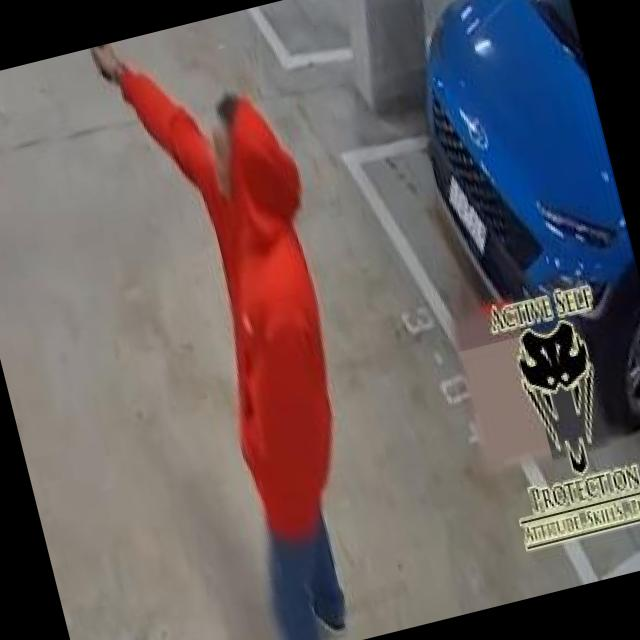Guns: (74, 42, 124, 92)
